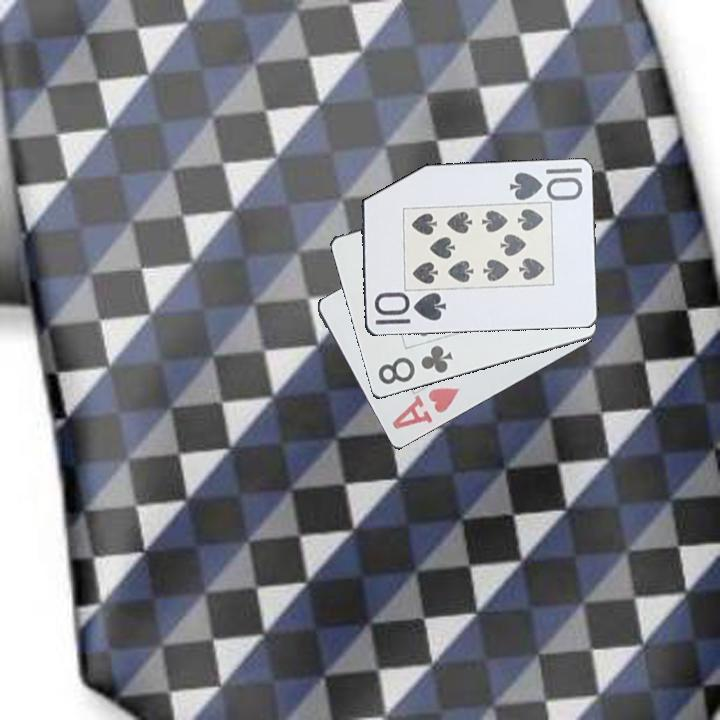8c: (374, 342, 456, 388)
Ah: (389, 384, 462, 433)
Ts: (506, 164, 585, 203), (370, 290, 449, 328)
